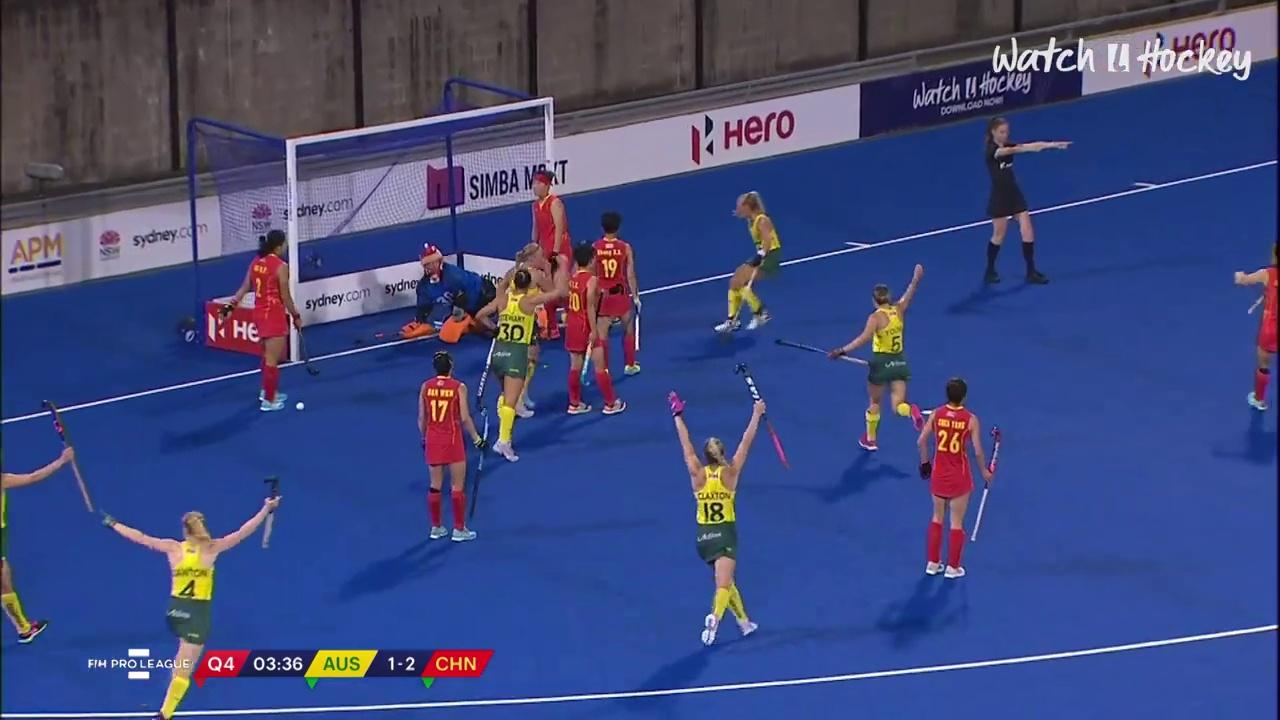ball: (290, 397, 306, 418)
